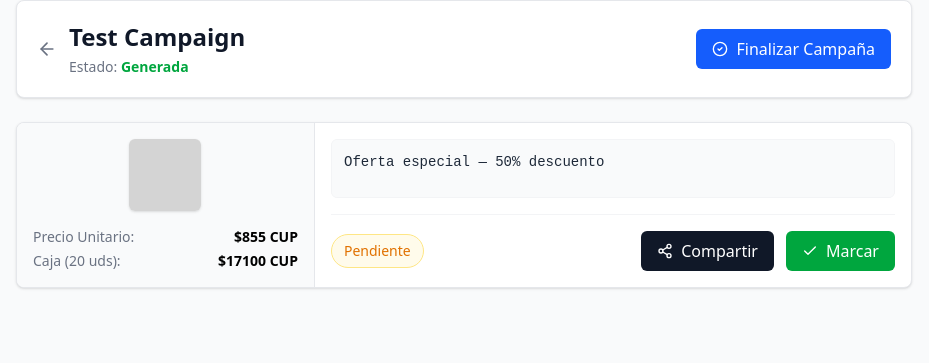
Test: CampaignShare sent-status rule › shows failure/recovery notice when updateCampaignProductStatus rejects after shared result
Expected: the heading "Test Campaign" is shown, [69,21,245,53]
Click the button "Compartir" at (708, 251), box [641,231,774,271]
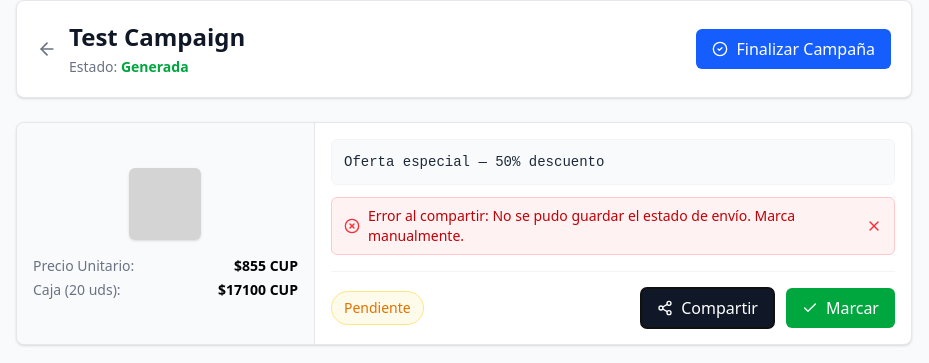
Expected: the text "Marca manualmente" is shown, [368,206,795,245]
Expected: the text "Error" is shown, [368,206,492,225]
